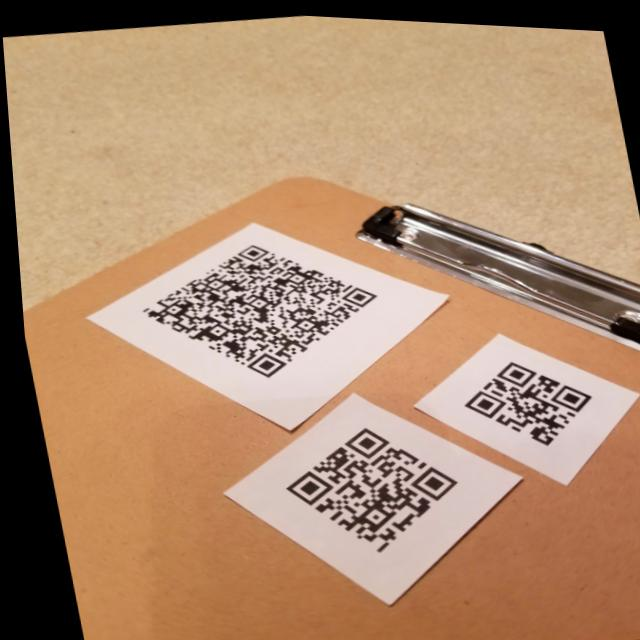QR_CODE: (116, 214, 397, 400), (252, 399, 473, 569), (442, 337, 604, 458)
